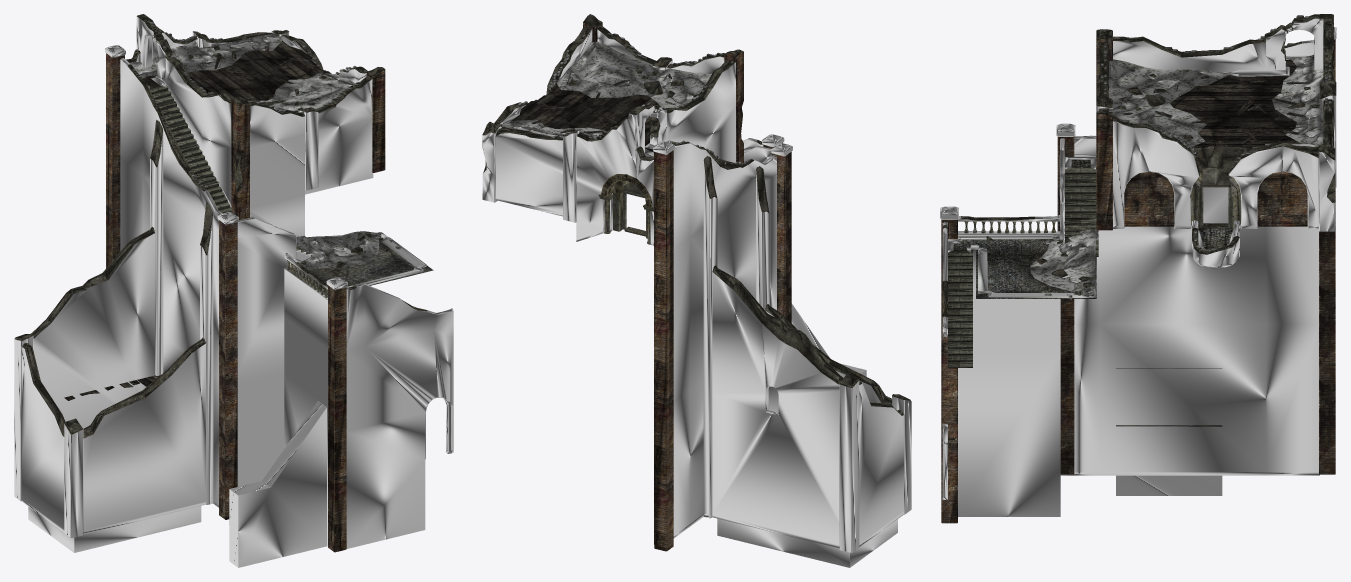
The picture shows the model from 3 angles, left to right: view 1: azimuth 30°, elevation 25°; view 2: azimuth 150°, elevation 25°; view 3: azimuth 270°, elevation 25°; orthographic projection. The views are drawn at different scales.
Parts seen in each view (by area): view 1: mesh4, mesh5, mesh11, mesh9, mesh15, mesh16, mesh10, mesh8, mesh2, mesh14, mesh0; view 2: mesh4, mesh5, mesh11, mesh15, mesh9, mesh16, mesh13, mesh2, mesh12, mesh1; view 3: mesh4, mesh5, mesh15, mesh9, mesh11, mesh10, mesh8, mesh16, mesh14, mesh13, mesh0, mesh2 (+2 smaller).
Boxes of the visible parts, x1,y1,x2,y2 form: mesh4: (14,16,453,567); mesh5: (106,53,385,552); mesh11: (14,14,427,438); mesh9: (64,40,331,400); mesh15: (131,35,374,269); mesh16: (130,33,379,271); mesh10: (149,85,309,254); mesh8: (297,232,433,293); mesh2: (132,22,366,188); mesh14: (148,34,426,287); mesh0: (188,45,390,292); mesh4: (482,29,911,567); mesh5: (583,22,791,551); mesh11: (482,14,911,415); mesh15: (508,42,710,157); mesh9: (501,83,660,152); mesh16: (501,41,711,154); mesh13: (598,191,654,244); mesh2: (517,33,750,165); mesh12: (601,174,652,207); mesh1: (531,73,676,137); mesh4: (940,18,1336,516); mesh5: (941,38,1335,523); mesh15: (1049,55,1321,291); mesh9: (1116,59,1317,426); mesh11: (942,14,1336,316); mesh10: (948,167,1098,367); mesh8: (953,158,1232,298); mesh16: (1028,54,1323,297); mesh14: (948,56,1318,297); mesh13: (964,170,1240,233); mesh0: (986,73,1320,295); mesh2: (1100,15,1331,251).
Size of the model in its own units: 22.19 by 26.42 by 19.02.
